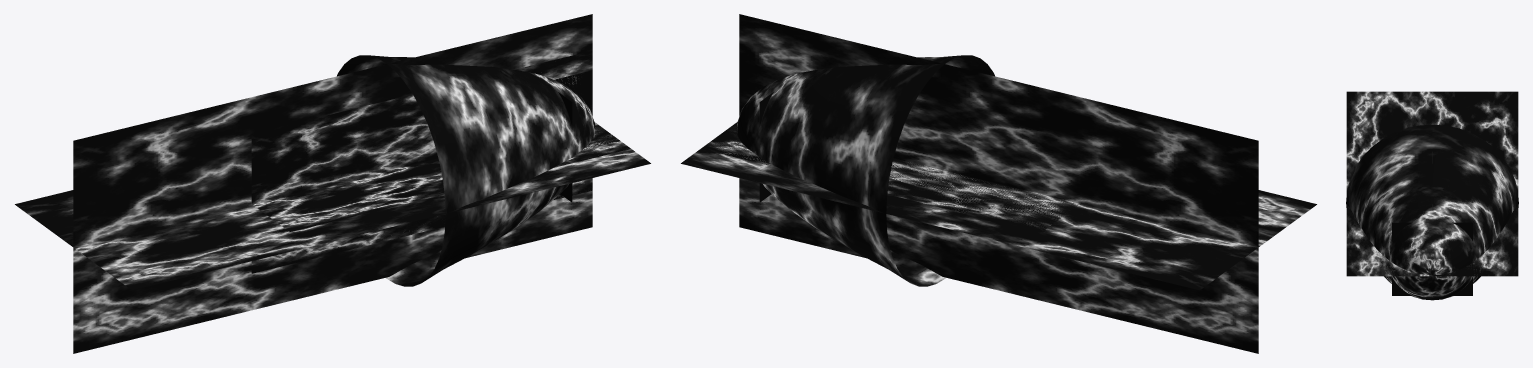
The model's file is Akaza_Fist4_Dist.fbx.
3 views of the same model, side by side, from view 1: azimuth 30°, elevation 25°; view 2: azimuth 150°, elevation 25°; view 3: azimuth 270°, elevation 25° (orthographic). The views are drawn at different scales.
Visible parts, largest first — view 1: SM_e_Plc_P1012_Fist004; view 2: SM_e_Plc_P1012_Fist004; view 3: SM_e_Plc_P1012_Fist004.
Part boxes in pixels (left/top/right/bottom): SM_e_Plc_P1012_Fist004: left=15, top=14, right=650, bottom=353; SM_e_Plc_P1012_Fist004: left=681, top=14, right=1316, bottom=353; SM_e_Plc_P1012_Fist004: left=1346, top=91, right=1518, bottom=300.
Size of the model in its own units: 648 by 256 by 256.
